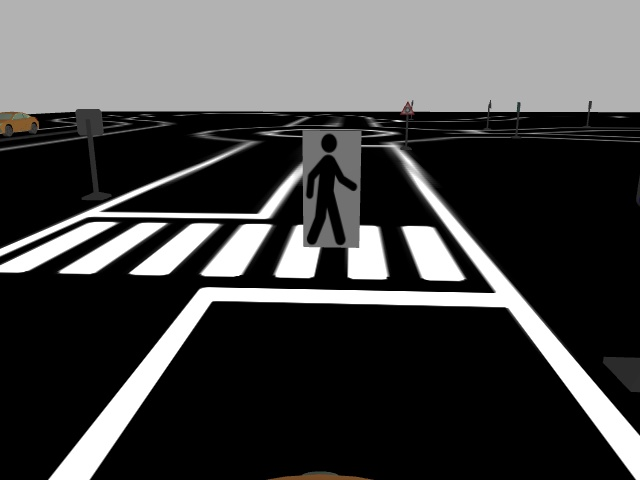pedestrian: (300, 127, 362, 251)
